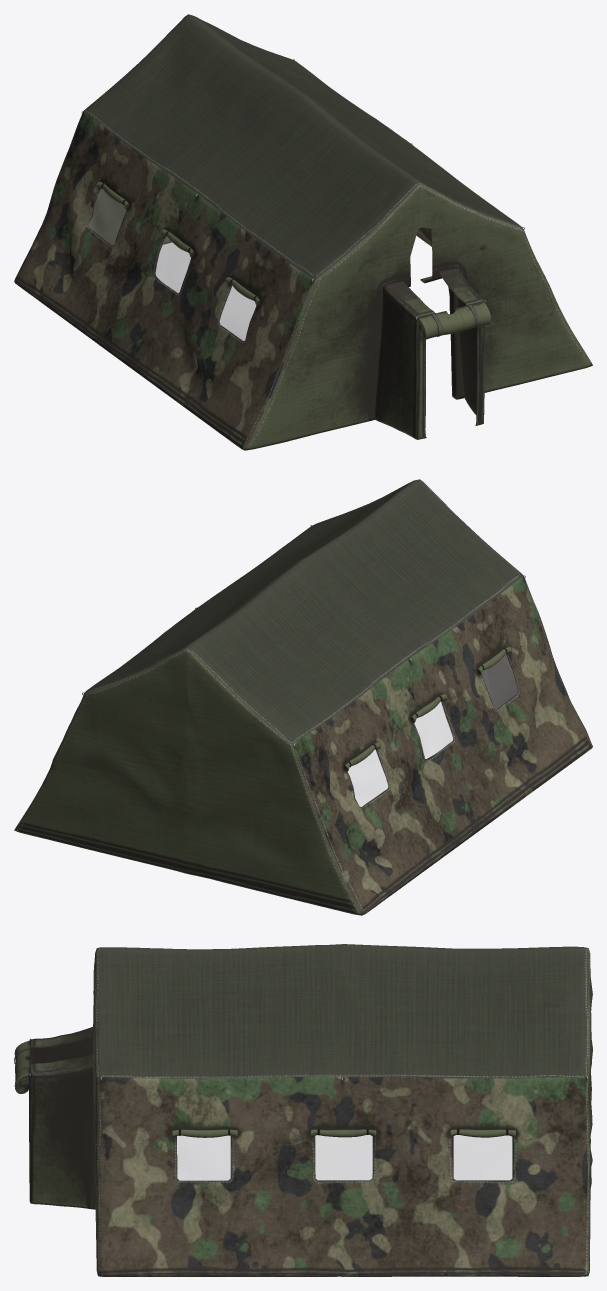
The model's file is tent_military.glb.
The picture shows the model from 3 angles, top to bottom: view 1: azimuth 30°, elevation 25°; view 2: azimuth 150°, elevation 25°; view 3: azimuth 270°, elevation 25°; orthographic projection. The views are drawn at different scales.
Visible parts, largest first — view 1: tent_military_0, tent_military_1; view 2: tent_military_0, tent_military_1; view 3: tent_military_0, tent_military_1.
Boxes of the visible parts, <box> form: tent_military_0: <box>14,14,592,450</box>; tent_military_1: <box>88,188,255,340</box>; tent_military_0: <box>14,479,592,915</box>; tent_military_1: <box>348,654,517,806</box>; tent_military_0: <box>14,944,592,1276</box>; tent_military_1: <box>177,1135,512,1180</box>.
Size of the model in its own units: 6.28 by 3.92 by 8.46.
2 materials, 1 textured.
